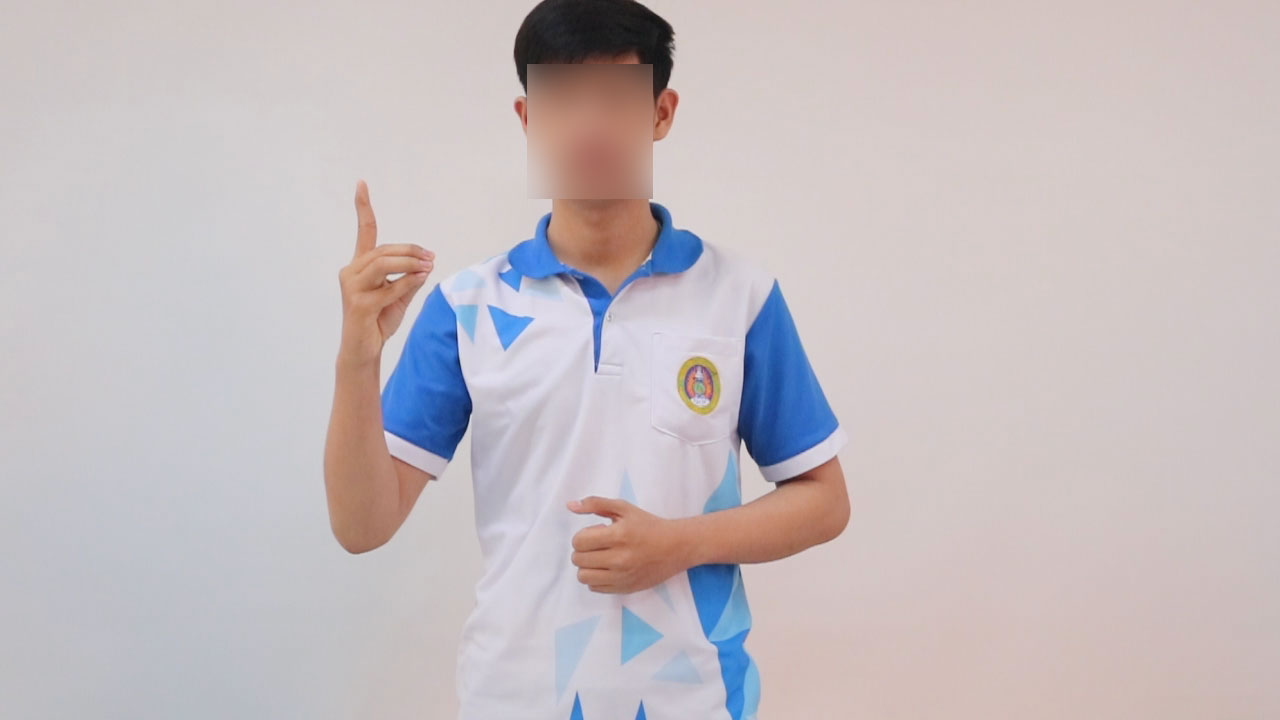dor: (328, 174, 441, 361)
